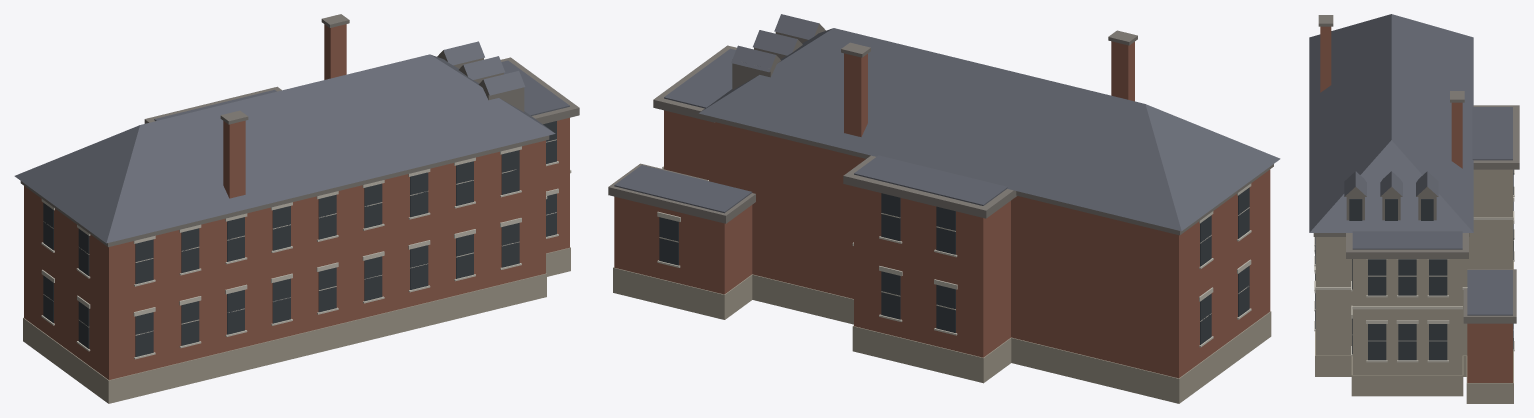
Rendered from house_1703_indiana__draft_1904.glb.
The picture shows the model from 3 angles, left to right: view 1: azimuth 30°, elevation 25°; view 2: azimuth 150°, elevation 25°; view 3: azimuth 270°, elevation 25°; orthographic projection. The views are drawn at different scales.
Visible parts, largest first — view 1: house_1703_indiana__draft_1904; view 2: house_1703_indiana__draft_1904; view 3: house_1703_indiana__draft_1904.
Part boxes in pixels (x1,y1,x2,y2): house_1703_indiana__draft_1904: [14, 14, 579, 403]; house_1703_indiana__draft_1904: [608, 14, 1280, 403]; house_1703_indiana__draft_1904: [1309, 14, 1519, 403].
Size of the model in its own units: 28.55 by 13.47 by 11.45.
